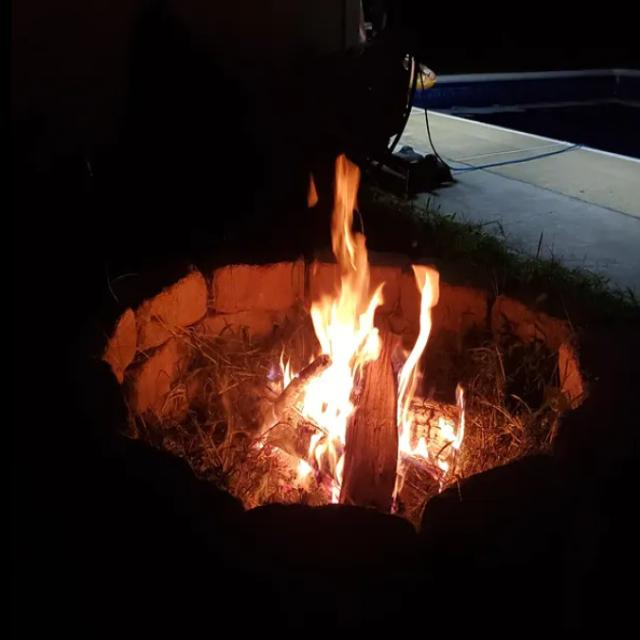fire: (397, 265, 439, 455), (311, 282, 385, 361), (331, 154, 369, 289), (291, 360, 358, 432), (391, 455, 454, 520), (440, 382, 465, 450)
